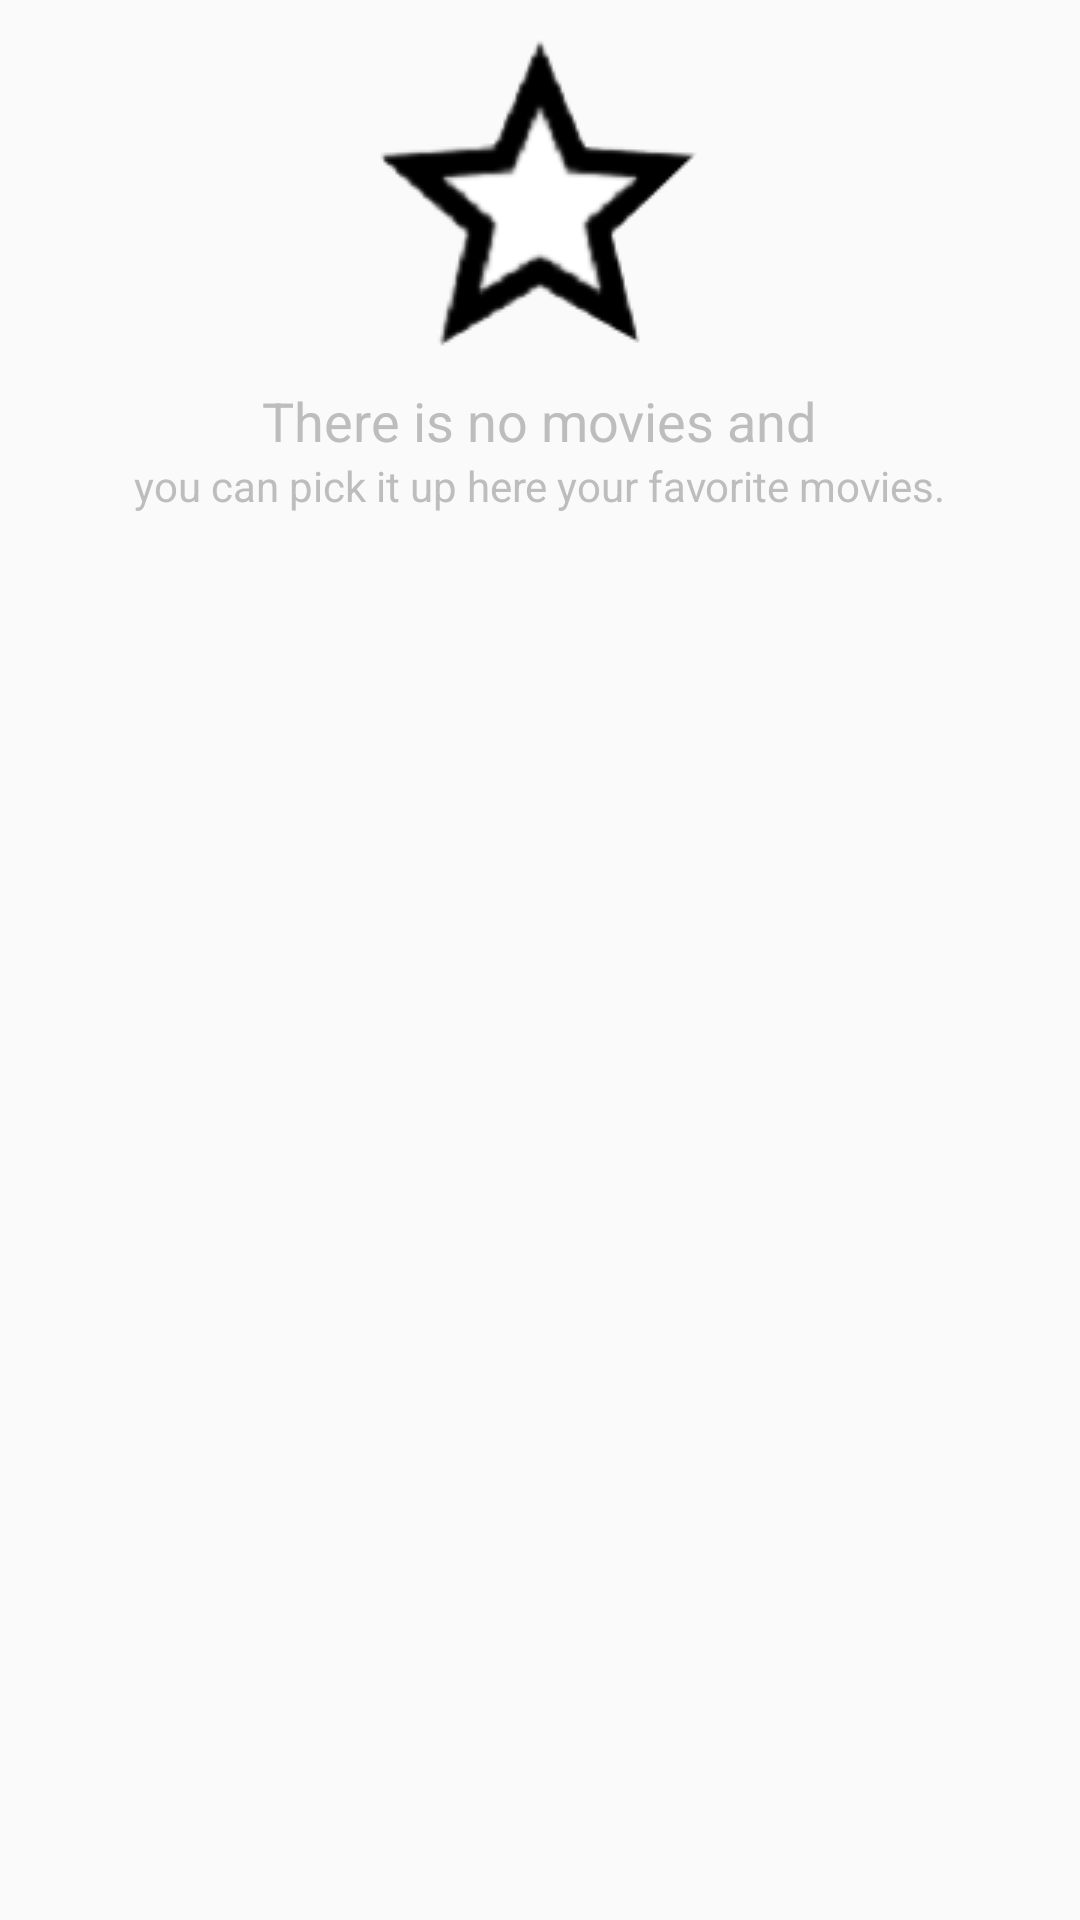

Where to tap for icons on this 1080 x 1920 app screen, as (x=x, y=y):
star: (x=538, y=193)
